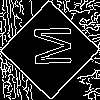M: (25, 25, 72, 68)
